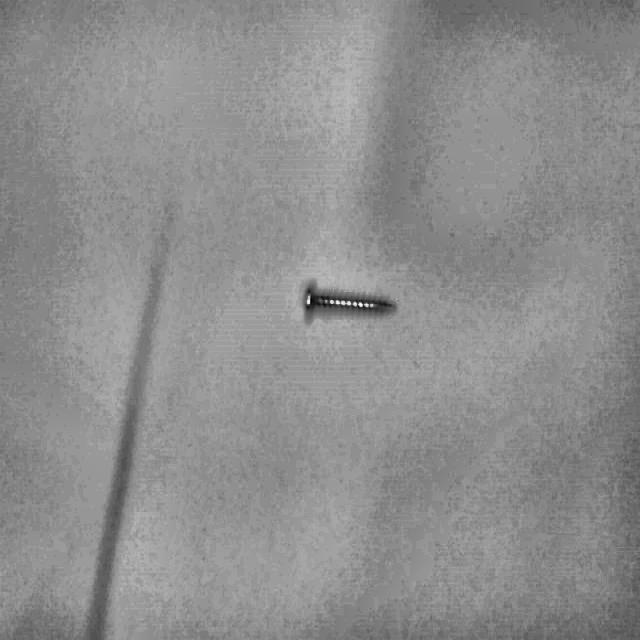Sheet metal screw: (304, 287, 396, 313)
